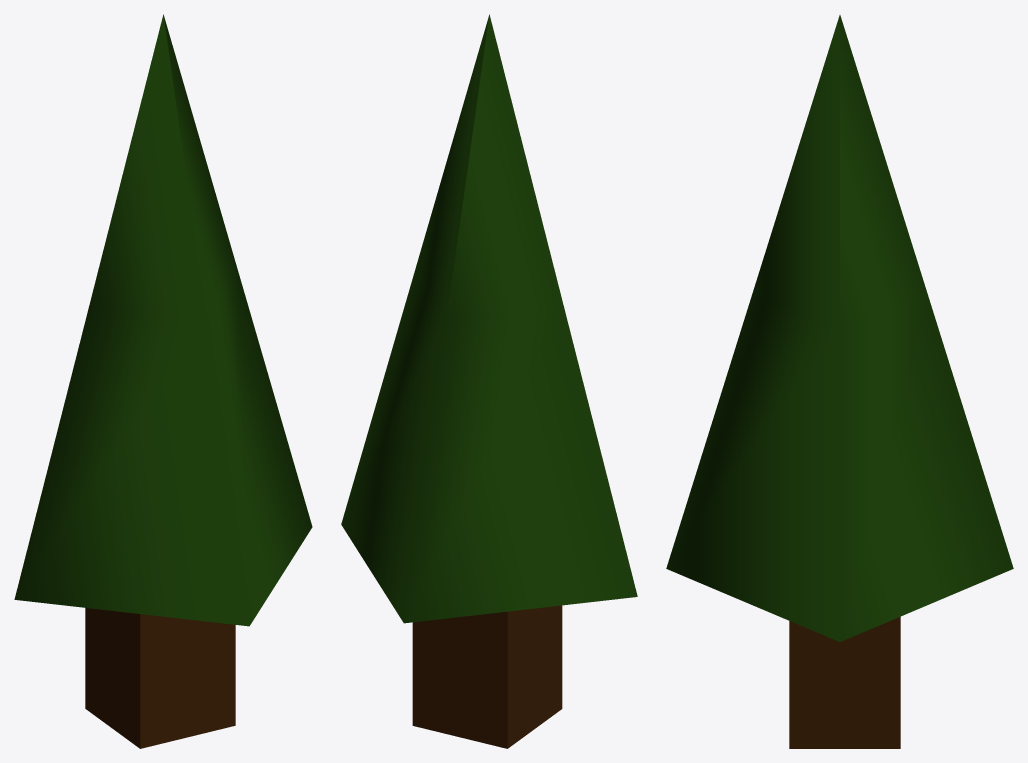
The model's file is granlow.glb.
3 views of the same model, side by side, from view 1: azimuth 30°, elevation 25°; view 2: azimuth 150°, elevation 25°; view 3: azimuth 270°, elevation 25° (orthographic).
Visible parts, largest first — view 1: Merged batch 1; view 2: Merged batch 1; view 3: Merged batch 1.
Boxes of the visible parts, box(x1,y1,x2,y2) form: Merged batch 1: box(14, 14, 312, 748); Merged batch 1: box(341, 14, 637, 748); Merged batch 1: box(666, 15, 1013, 748).
Bounding box in the file's own units: 2 × 4.52 × 2.
